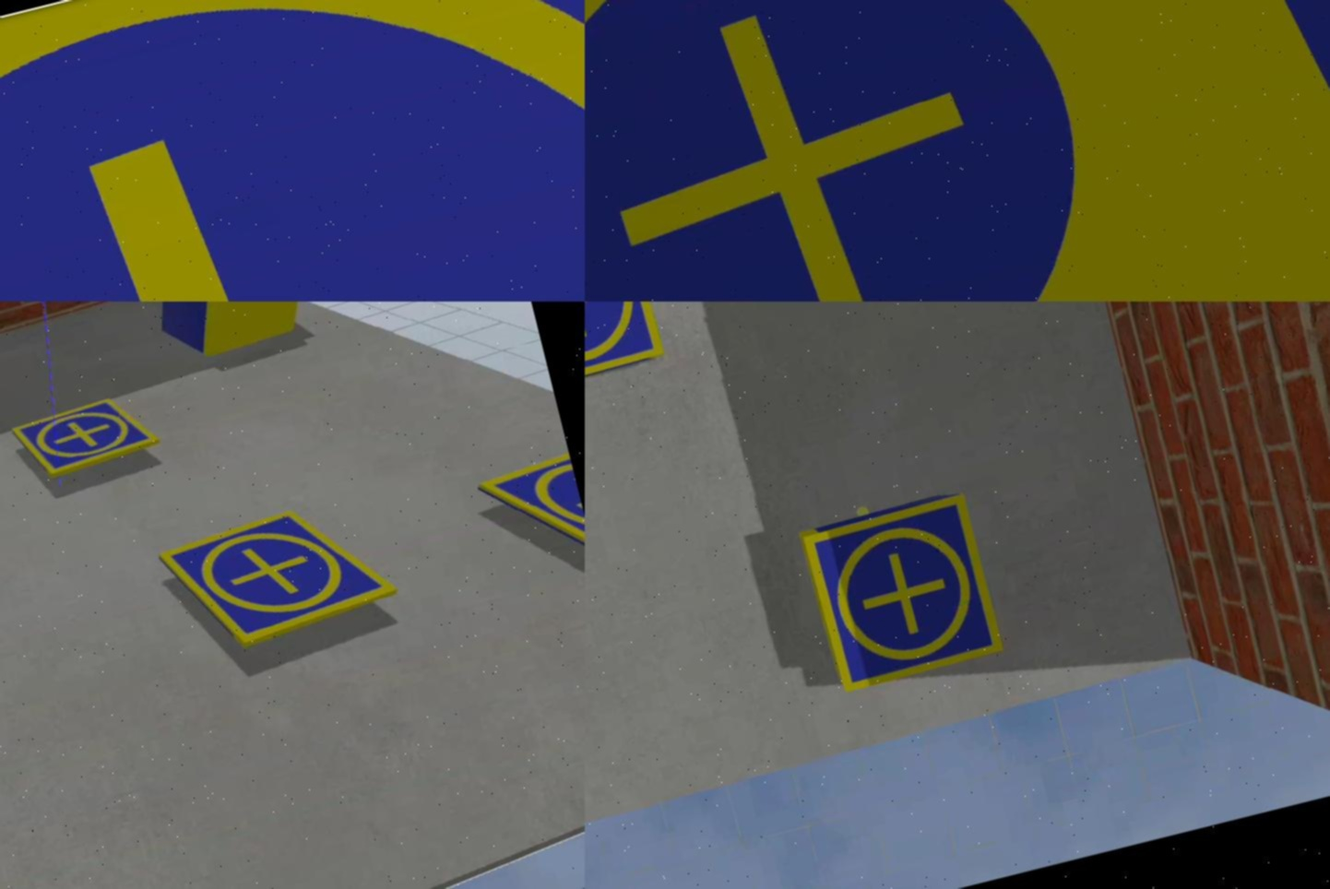large_base: (585, 1, 1330, 302)
small_base: (1, 1, 585, 302), (798, 492, 1006, 698), (159, 493, 403, 660), (10, 391, 160, 483), (473, 454, 585, 571), (585, 302, 664, 393), (157, 302, 306, 306)
